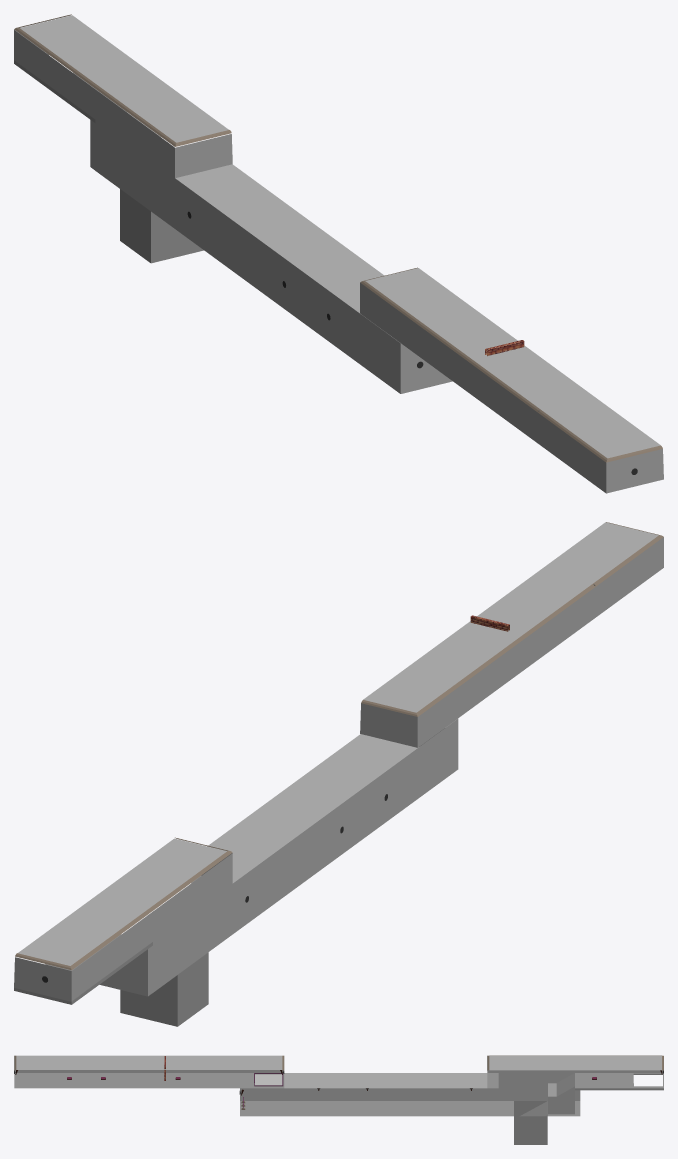
Rendered from level1.fbx.
The picture shows the model from 3 angles, top to bottom: view 1: azimuth 30°, elevation 25°; view 2: azimuth 150°, elevation 25°; view 3: azimuth 270°, elevation 25°; orthographic projection. The views are drawn at different scales.
Parts seen in each view (by area): view 1: polySurface56, ceiling1, polySurface57, ceiling3, ceiling2, polySurface55, polySurface47, beginningCeilingCorner, endCeilingCorner; view 2: polySurface56, ceiling1, polySurface57, ceiling3, ceiling2, polySurface55, polySurface47, beginningCeilingCorner, endCeilingCorner; view 3: polySurface47, polySurface56, ceiling1, polySurface44, ceiling3, ceiling2, polySurface53, pCube1, polySurface57, polySurface55, door, endCeilingCorner (+2 smaller).
Part boxes in pixels (bbox=[...]): polySurface56: bbox=[90, 120, 452, 393]; ceiling1: bbox=[365, 268, 660, 458]; polySurface57: bbox=[360, 282, 663, 493]; ceiling3: bbox=[175, 164, 384, 314]; ceiling2: bbox=[20, 15, 228, 142]; polySurface55: bbox=[14, 29, 232, 178]; polySurface47: bbox=[120, 189, 386, 332]; beginningCeilingCorner: bbox=[360, 267, 662, 462]; endCeilingCorner: bbox=[14, 14, 231, 146]; polySurface56: bbox=[99, 719, 458, 996]; ceiling1: bbox=[363, 522, 658, 712]; polySurface57: bbox=[360, 537, 663, 747]; ceiling3: bbox=[207, 734, 418, 883]; ceiling2: bbox=[18, 838, 226, 965]; polySurface55: bbox=[14, 853, 232, 1001]; polySurface47: bbox=[120, 952, 208, 1026]; beginningCeilingCorner: bbox=[361, 522, 663, 716]; endCeilingCorner: bbox=[15, 837, 232, 970]; polySurface47: bbox=[240, 1101, 580, 1144]; polySurface56: bbox=[240, 1073, 580, 1100]; ceiling1: bbox=[16, 1055, 282, 1069]; polySurface44: bbox=[14, 1073, 284, 1088]; ceiling3: bbox=[284, 1073, 487, 1088]; ceiling2: bbox=[489, 1056, 661, 1070]; polySurface53: bbox=[575, 1073, 663, 1090]; pCube1: bbox=[548, 1073, 574, 1114]; polySurface57: bbox=[14, 1070, 283, 1072]; polySurface55: bbox=[487, 1070, 662, 1072]; door: bbox=[255, 1074, 282, 1085]; endCeilingCorner: bbox=[487, 1055, 663, 1070].
Size of what is drawn, in the model's own units: 664 by 1562 by 11784.
